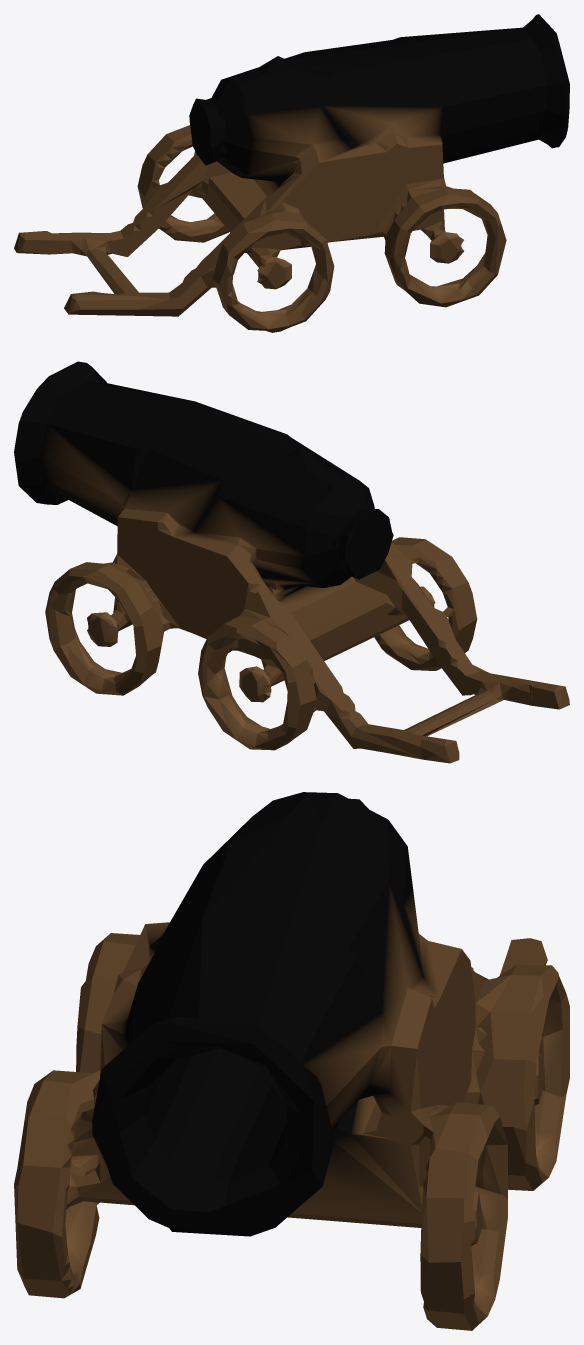
The model's file is Cannons.glb.
The picture shows the model from 3 angles, top to bottom: view 1: azimuth 30°, elevation 25°; view 2: azimuth 150°, elevation 25°; view 3: azimuth 270°, elevation 25°; orthographic projection. The views are drawn at different scales.
Parts seen in each view (by area): view 1: Root; view 2: Root; view 3: Root.
Part boxes in pixels (x1=…): Root: x1=14, y1=14, x2=569, y2=332; Root: x1=14, y1=361, x2=569, y2=763; Root: x1=14, y1=792, x2=569, y2=1330.
Bounding box in the file's own units: 3.89 × 1.71 × 2.13.
